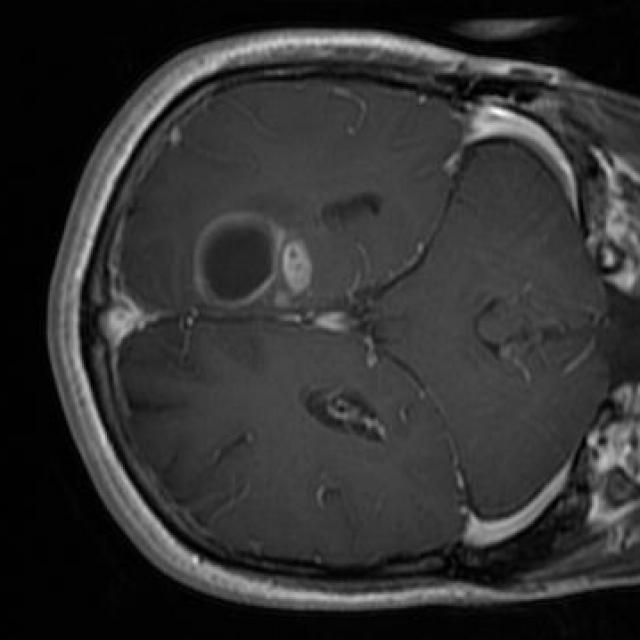glioma: (193, 212, 317, 310)
